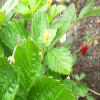Strawberry leaf: (14, 36, 38, 94), (0, 19, 31, 51), (44, 46, 73, 77), (32, 7, 50, 42)
